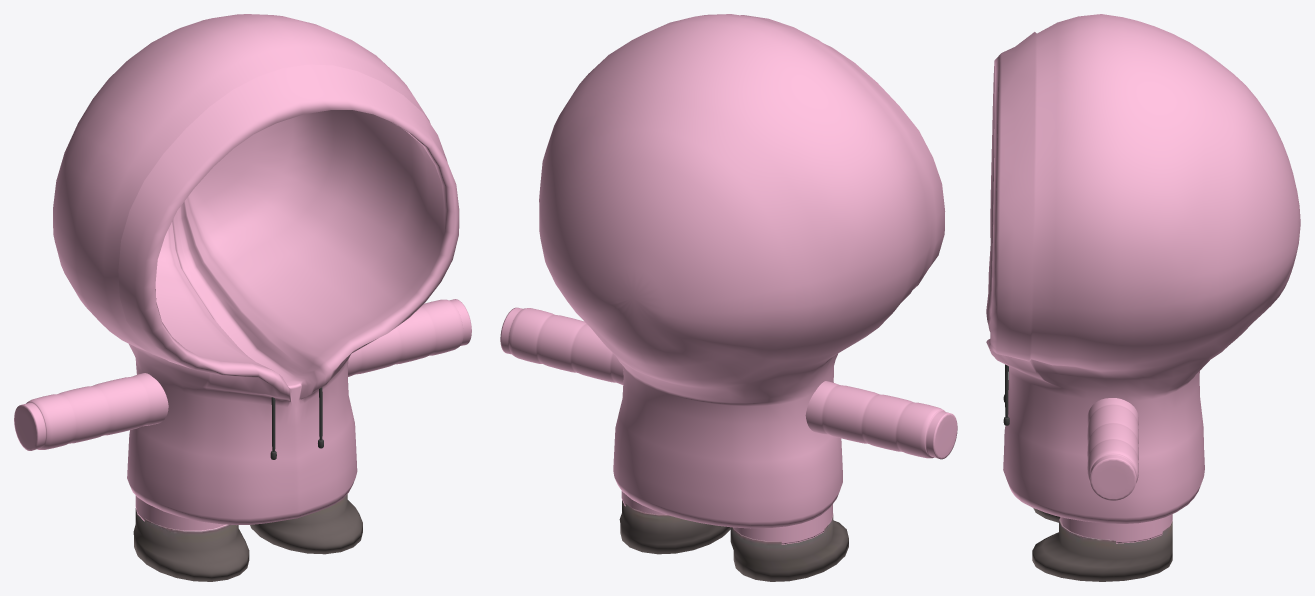
The model's file is cloak.glb.
3 renders of one model, left to right at view 1: azimuth 30°, elevation 25°; view 2: azimuth 150°, elevation 25°; view 3: azimuth 270°, elevation 25°, orthographic. The views are drawn at different scales.
Parts seen in each view (by area): view 1: AO_khoac_trumdau; view 2: AO_khoac_trumdau; view 3: AO_khoac_trumdau.
Part boxes in pixels (box(x1,y1,x2,y2)): AO_khoac_trumdau: box(14, 14, 471, 581); AO_khoac_trumdau: box(500, 14, 957, 581); AO_khoac_trumdau: box(986, 14, 1300, 581).
Size of the model in its own units: 1.07 by 1.21 by 0.6831.
1 material, 1 textured.
